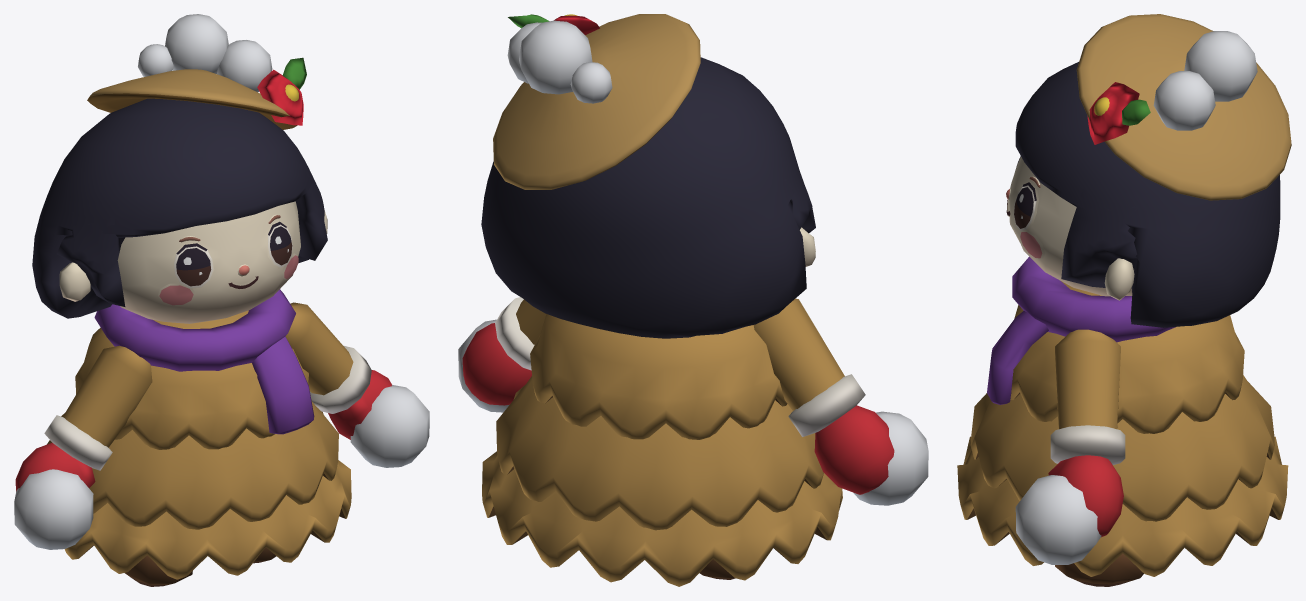
Rendered from yukiwarashi_camellia.glb.
The picture shows the model from 3 angles, left to right: view 1: azimuth 30°, elevation 25°; view 2: azimuth 150°, elevation 25°; view 3: azimuth 270°, elevation 25°; orthographic projection. The views are drawn at different scales.
Visible parts, largest first — view 1: body, armL, armR, ballL, ballR, face; view 2: body, armL, armR, ballL, ballR; view 3: body, armR, ballR, face.
Boxes of the visible parts, x1,y1,x2,y2 form: body: (32,14,351,586); armL: (15,345,152,491); armR: (285,302,391,439); ballL: (14,469,93,549); ballR: (350,385,429,467); face: (158,214,298,305); body: (481,14,842,586); armL: (753,298,894,494); armR: (462,297,546,405); ballL: (853,411,928,505); ballR: (458,319,509,412); body: (957,14,1291,586); armR: (1048,329,1125,537); ballR: (1015,475,1101,564); face: (1006,156,1045,258).
Bounding box in the file's own units: 0.8773 × 1.04 × 0.5758.
